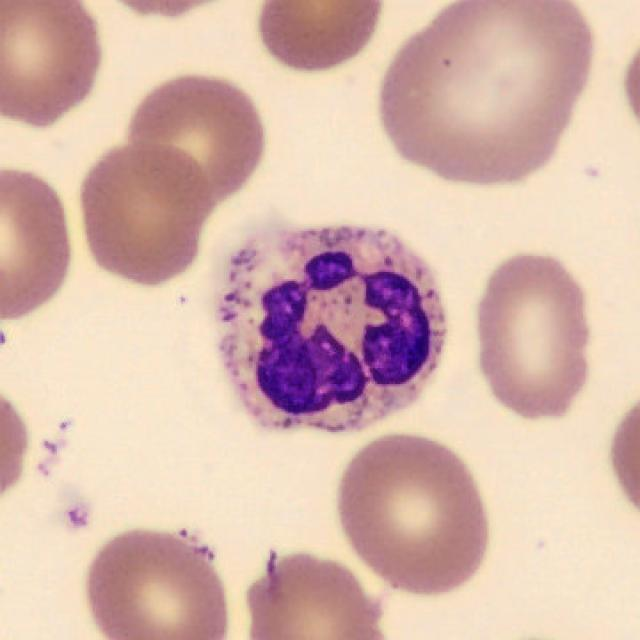Neutrofilo segmentado: (213, 224, 448, 432)
